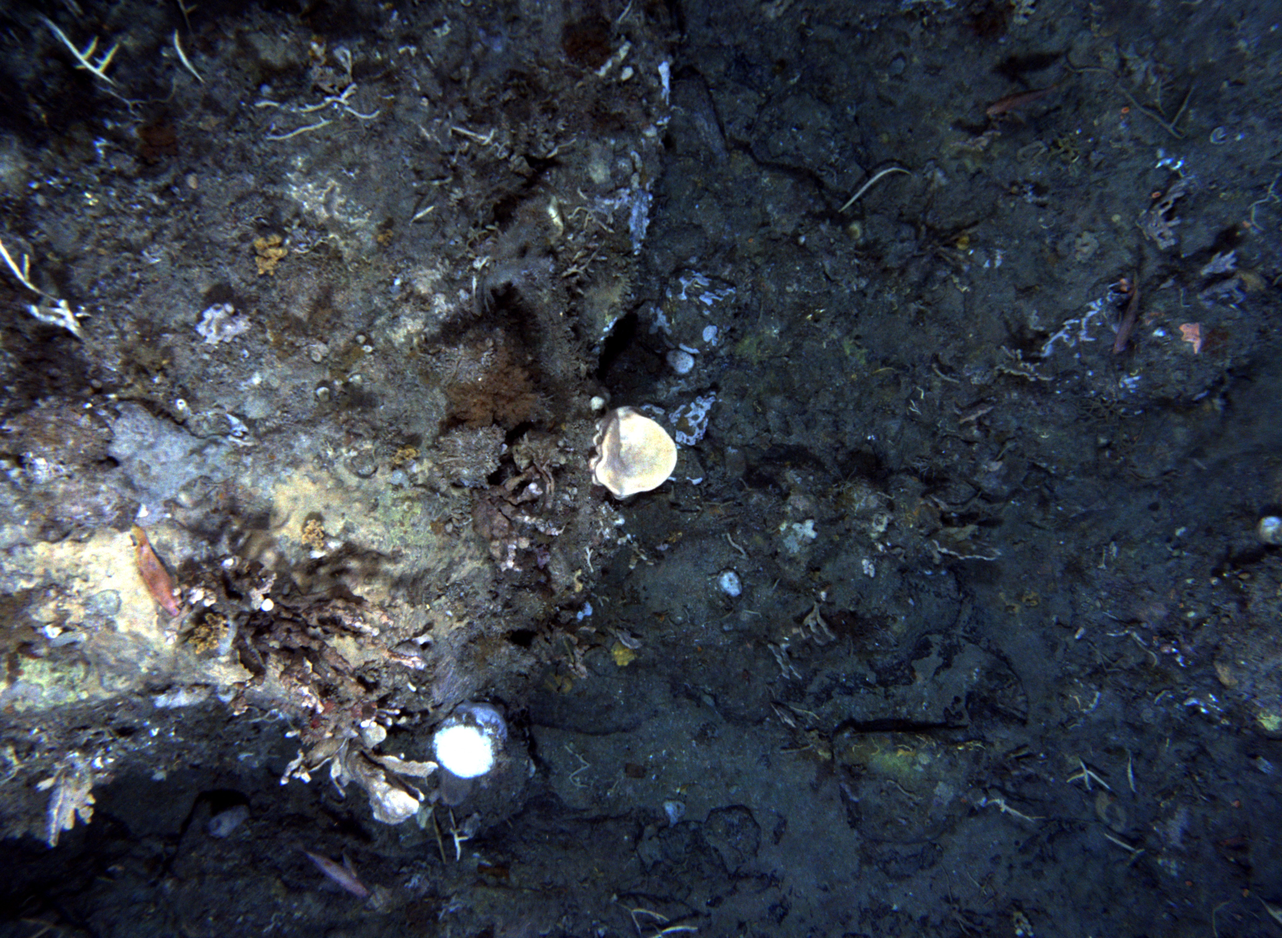Brachionichthyidae: (127, 521, 187, 617)
